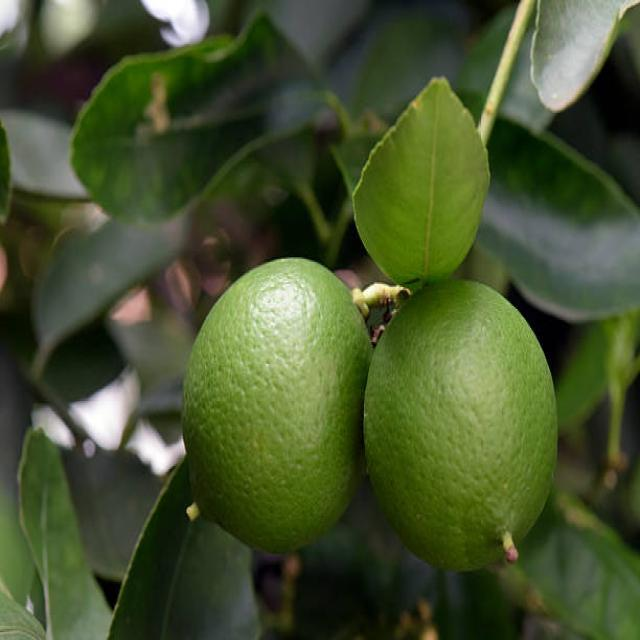Unripe: (181, 252, 372, 560), (365, 274, 558, 574)
